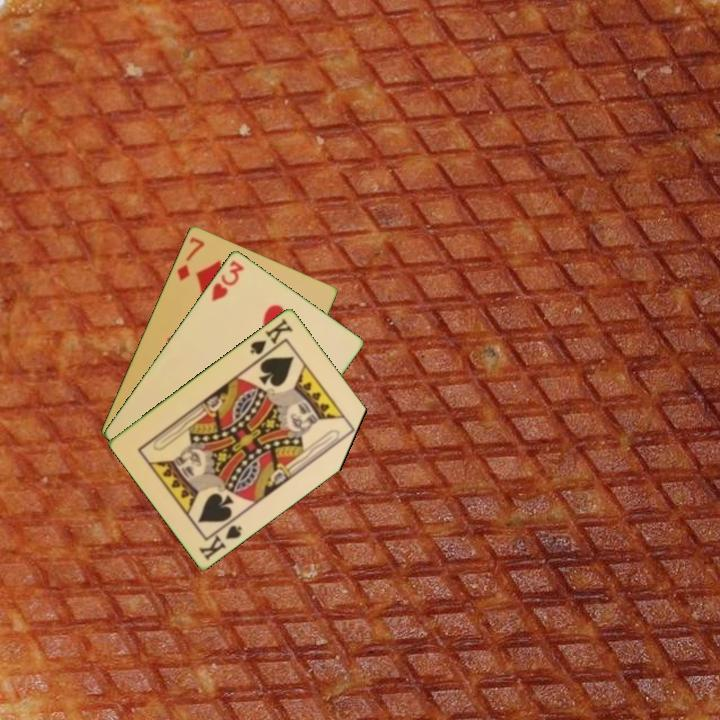3h: (208, 256, 247, 304)
7d: (173, 233, 207, 283)
Ks: (195, 514, 245, 563), (246, 314, 296, 362)
